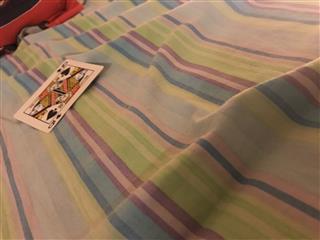QueenOfSpades: (13, 58, 104, 133)
